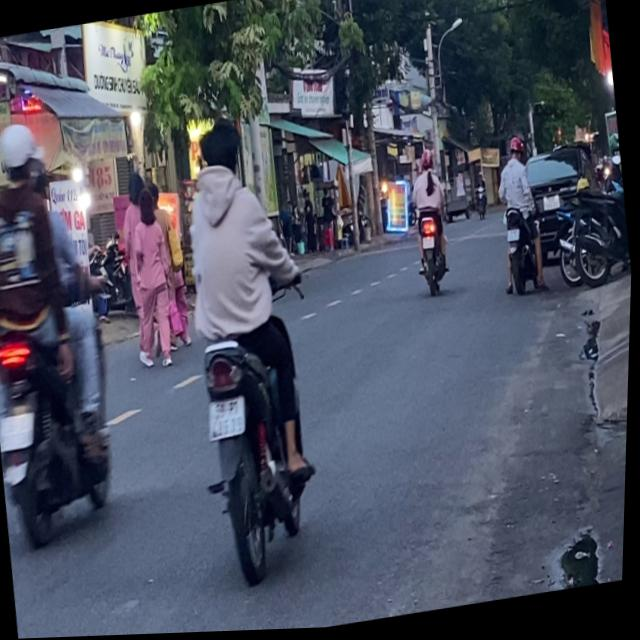helmet: (0, 117, 46, 189), (507, 137, 524, 165)
licenseplate: (158, 102, 344, 592), (0, 103, 139, 556), (488, 134, 553, 302)
nohelmet: (208, 398, 250, 441), (0, 411, 39, 450), (507, 232, 521, 245), (423, 238, 436, 252)
